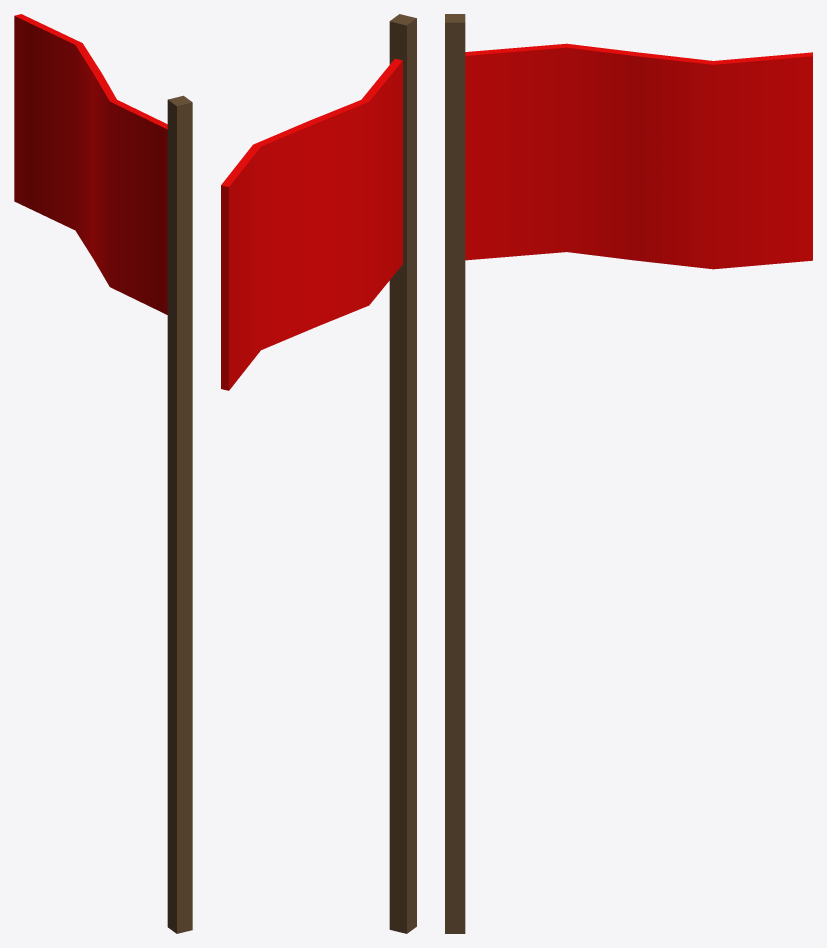
Rendered from flag.FBX.
3 renders of one model, left to right at view 1: azimuth 30°, elevation 25°; view 2: azimuth 150°, elevation 25°; view 3: azimuth 270°, elevation 25°, orthographic. The views are drawn at different scales.
Parts seen in each view (by area): view 1: Box001; view 2: Box001; view 3: Box001.
Part boxes in pixels (x1=…): Box001: x1=14, y1=14, x2=192, y2=933; Box001: x1=221, y1=14, x2=416, y2=933; Box001: x1=445, y1=14, x2=812, y2=933.
Size of the model in its own units: 5.89 by 118 by 43.21.
Materials: 1 (1 with a texture image).
